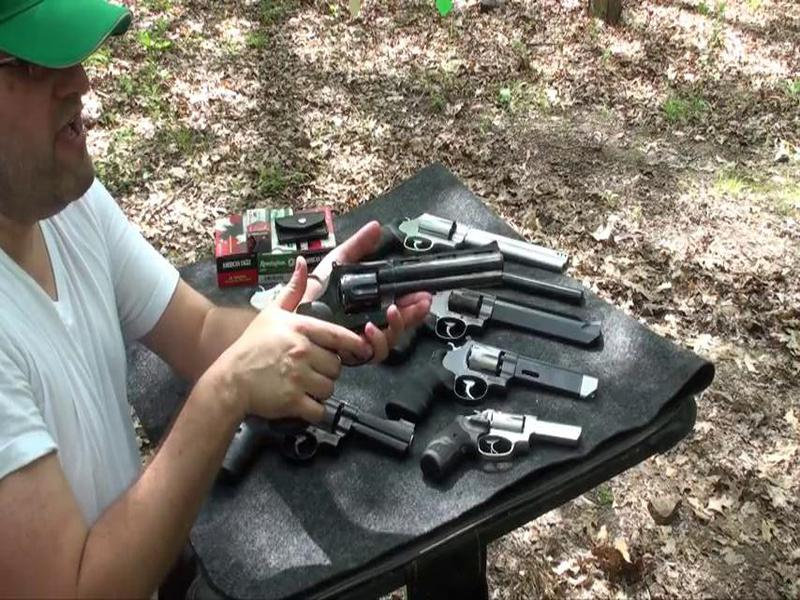Revolver: (291, 237, 517, 372)
